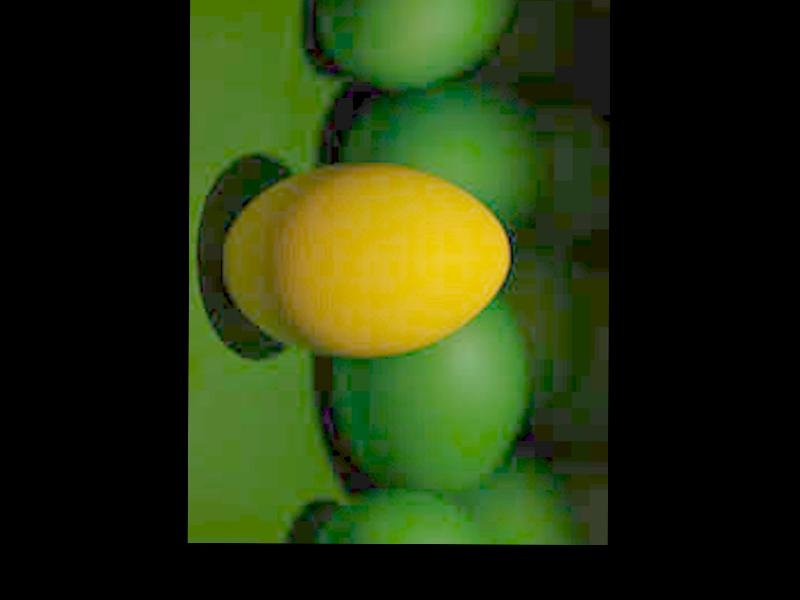Eggs: (222, 162, 508, 357)
